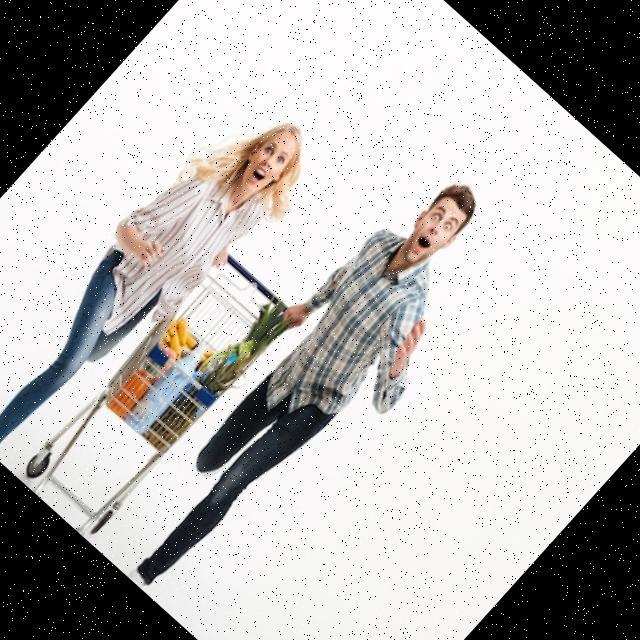Person: (82, 150, 537, 632), (0, 82, 334, 494)
